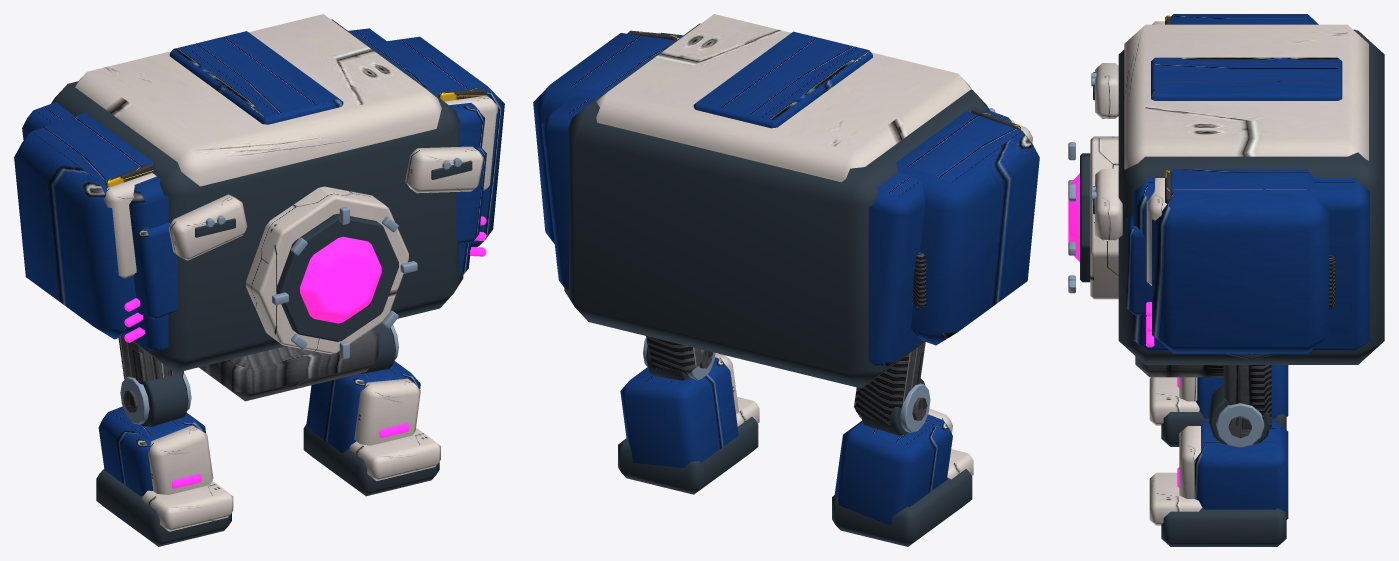
File: heavy_armored.glb
3 views of the same model, side by side, from view 1: azimuth 30°, elevation 25°; view 2: azimuth 150°, elevation 25°; view 3: azimuth 270°, elevation 25° (orthographic). The views are drawn at different scales.
Parts seen in each view (by area): view 1: Ceramic, Cobalt, Graphite, Ceramic.002, Ceramic.001, Magenta optic, Brushed steel, Graphite.001, Cobalt.001, Cobalt.002, Graphite.002, Brushed steel.001 (+3 smaller); view 2: Graphite, Cobalt, Ceramic, Cobalt.002, Cobalt.001, Graphite.001, Graphite.002, Brushed steel.001, Brushed steel.002, Machined edges.001, Ceramic.002, Ceramic.001 (+1 smaller); view 3: Cobalt, Ceramic, Graphite, Cobalt.002, Graphite.002, Ceramic.002, Brushed steel.002, Ceramic.001, Cobalt.001, Brushed steel, Machined edges.002, Graphite.001 (+2 smaller).
Part boxes in pixels (x1=…): Ceramic: x1=75, y1=14, x2=498, y2=354; Cobalt: x1=14, y1=28, x2=504, y2=351; Graphite: x1=51, y1=19, x2=472, y2=372; Ceramic.002: x1=349, y1=378, x2=440, y2=480; Ceramic.001: x1=142, y1=425, x2=233, y2=531; Magenta optic: x1=124, y1=216, x2=486, y2=342; Brushed steel: x1=199, y1=329, x2=378, y2=401; Graphite.001: x1=96, y1=373, x2=231, y2=546; Cobalt.001: x1=98, y1=406, x2=212, y2=496; Cobalt.002: x1=306, y1=361, x2=420, y2=452; Graphite.002: x1=303, y1=324, x2=439, y2=496; Brushed steel.001: x1=118, y1=336, x2=183, y2=412; Graphite: x1=564, y1=23, x2=989, y2=388; Cobalt: x1=533, y1=31, x2=1039, y2=365; Ceramic: x1=596, y1=14, x2=1032, y2=182; Cobalt.002: x1=620, y1=357, x2=738, y2=467; Cobalt.001: x1=834, y1=414, x2=952, y2=525; Graphite.001: x1=832, y1=378, x2=972, y2=546; Graphite.002: x1=618, y1=345, x2=758, y2=494; Brushed steel.001: x1=854, y1=342, x2=927, y2=425; Brushed steel.002: x1=646, y1=336, x2=712, y2=374; Machined edges.001: x1=858, y1=383, x2=930, y2=432; Ceramic.002: x1=715, y1=353, x2=759, y2=426; Ceramic.001: x1=928, y1=408, x2=973, y2=479; Cobalt: x1=1126, y1=14, x2=1369, y2=353; Ceramic: x1=1090, y1=21, x2=1368, y2=299; Graphite: x1=1080, y1=30, x2=1384, y2=364; Cobalt.002: x1=1194, y1=421, x2=1288, y2=519; Graphite.002: x1=1161, y1=384, x2=1286, y2=546; Ceramic.002: x1=1149, y1=426, x2=1202, y2=525; Brushed steel.002: x1=1223, y1=365, x2=1271, y2=438; Ceramic.001: x1=1149, y1=377, x2=1199, y2=425; Cobalt.001: x1=1196, y1=365, x2=1288, y2=418; Brushed steel: x1=1135, y1=255, x2=1335, y2=377; Machined edges.002: x1=1216, y1=403, x2=1264, y2=447; Graphite.001: x1=1161, y1=411, x2=1286, y2=446.
Size of the model in its own units: 1.3 by 1.21 by 0.8567.
7 materials, 4 textured.
